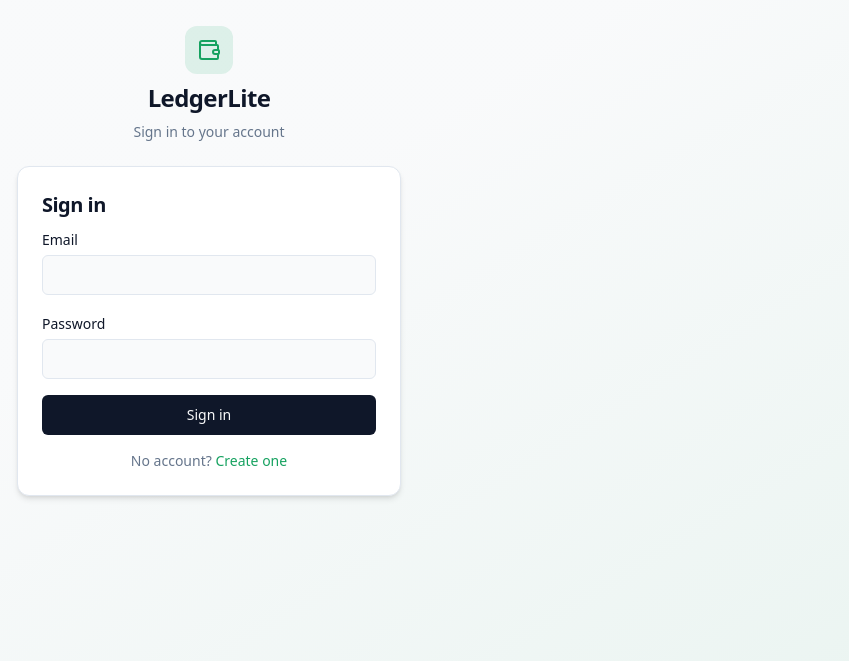
Test: Login page › shows a validation error for password shorter than 8 characters
Type "user@example.com" into the field labelled "Email" at x=209, y=275, box x1=42 y1=255 x2=376 y2=295
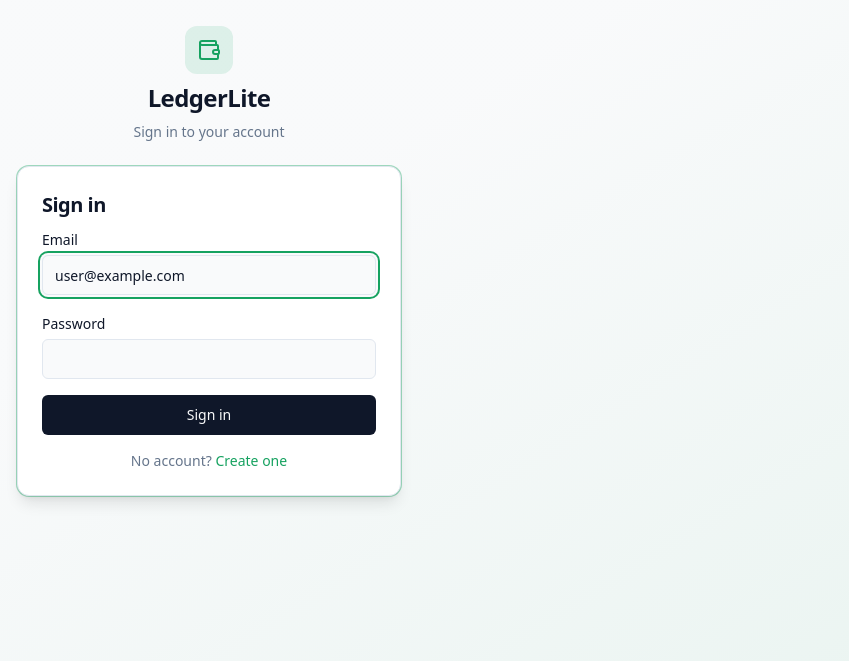
Type "short" into the password field labelled "Password" at x=209, y=359, box x1=42 y1=339 x2=376 y2=379
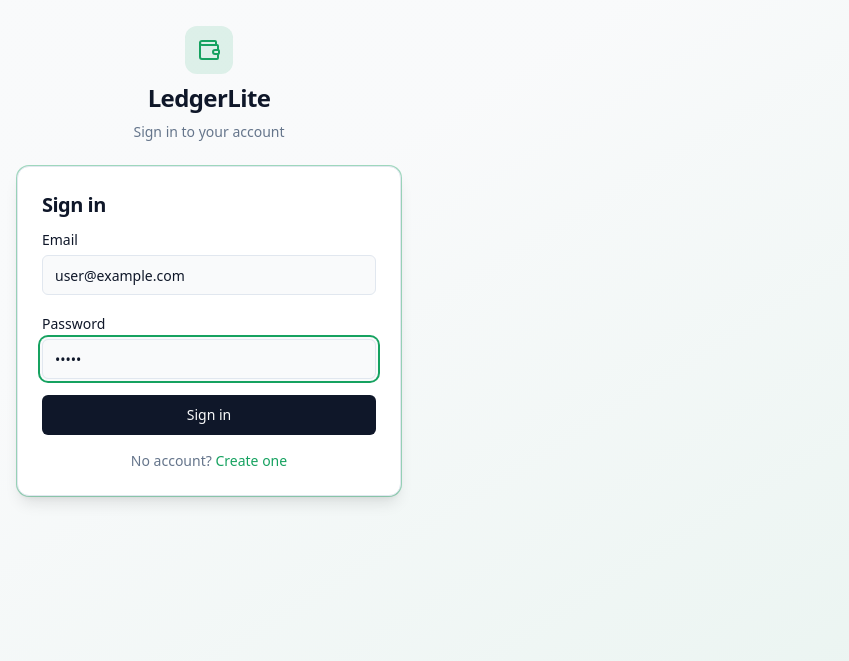
Click the button "Sign in" at x=209, y=415, box x1=42 y1=395 x2=376 y2=435
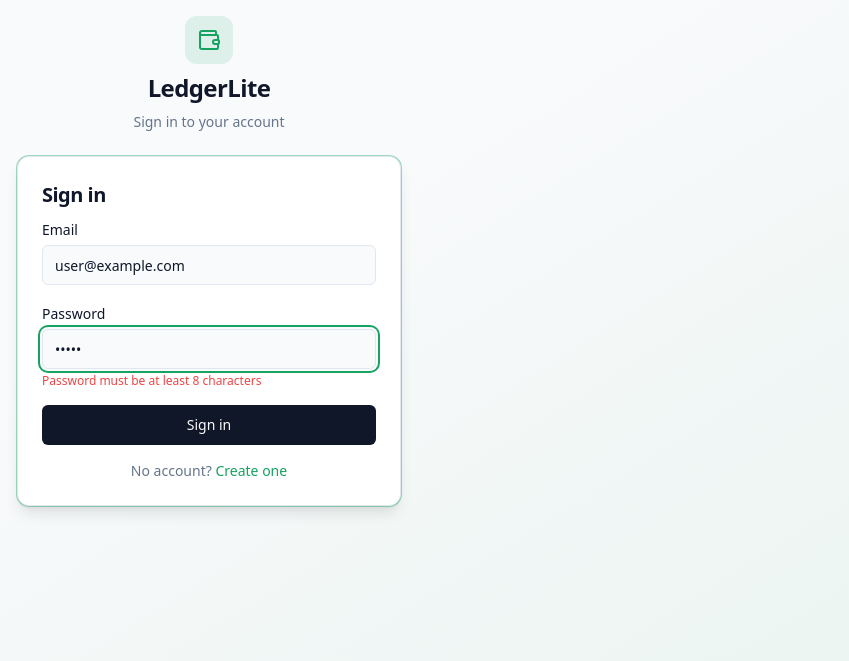
Now the text "Password must be at least 8 characters" is shown, box x1=42 y1=372 x2=261 y2=389
